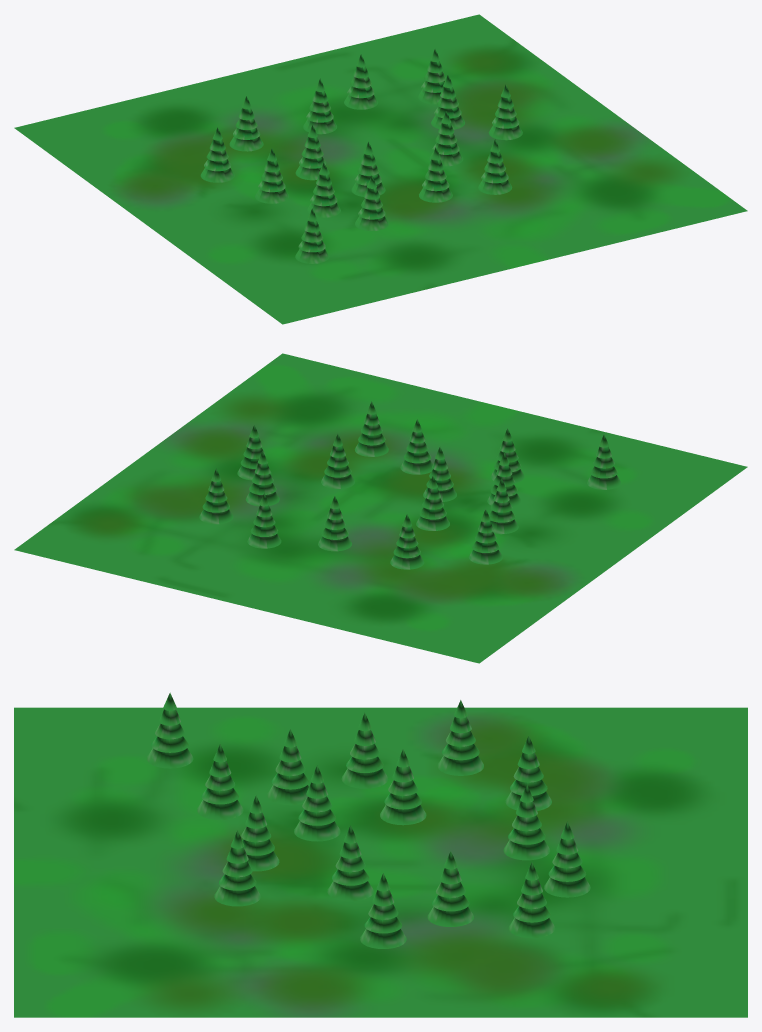
Rendered from Forest1.glb.
3 views of the same model, one above another, from view 1: azimuth 30°, elevation 25°; view 2: azimuth 150°, elevation 25°; view 3: azimuth 270°, elevation 25° (orthographic). The views are drawn at different scales.
Visible parts, largest first — view 1: Object, Object.005, Object.006, Object.014, Object.001, Object.010, Object.011, Object.016, Object.004, Object.002, Object.003, Object.007 (+5 smaller); view 2: Object, Object.006, Object.015, Object.016, Object.011, Object.005, Object.007, Object.001, Object.008, Object.012, Object.010, Object.013 (+5 smaller); view 3: Object, Object.016, Object.009, Object.012, Object.011, Object.001, Object.004, Object.007, Object.015, Object.014, Object.002, Object.008 (+5 smaller).
Part boxes in pixels (x1,y1,x2,y2): Object: [14, 14, 747, 324]; Object.005: [200, 127, 234, 182]; Object.006: [229, 96, 263, 151]; Object.014: [488, 84, 522, 140]; Object.001: [295, 208, 329, 263]; Object.010: [419, 147, 452, 202]; Object.011: [478, 139, 512, 194]; Object.016: [344, 54, 377, 109]; Object.004: [255, 148, 288, 203]; Object.002: [355, 176, 388, 230]; Object.003: [307, 162, 340, 217]; Object.007: [303, 78, 336, 134]; Object: [14, 353, 747, 663]; Object.006: [390, 514, 424, 569]; Object.015: [199, 468, 233, 524]; Object.016: [247, 493, 281, 548]; Object.011: [354, 401, 388, 456]; Object.005: [468, 509, 502, 564]; Object.007: [318, 496, 351, 551]; Object.001: [587, 434, 620, 489]; Object.008: [416, 475, 449, 530]; Object.012: [321, 434, 354, 488]; Object.010: [400, 419, 432, 474]; Object.013: [245, 451, 279, 506]; Object: [14, 707, 747, 1017]; Object.016: [544, 821, 590, 897]; Object.009: [294, 765, 340, 841]; Object.012: [327, 825, 373, 901]; Object.011: [214, 830, 260, 906]; Object.001: [147, 692, 193, 768]; Object.004: [341, 713, 388, 788]; Object.007: [503, 784, 549, 860]; Object.015: [508, 862, 555, 938]; Object.014: [360, 873, 406, 948]; Object.002: [197, 744, 243, 819]; Object.008: [380, 749, 426, 825].
Bounding box in the file's own units: 42.46 × 4.69 × 42.46.
1 material, 1 textured.
